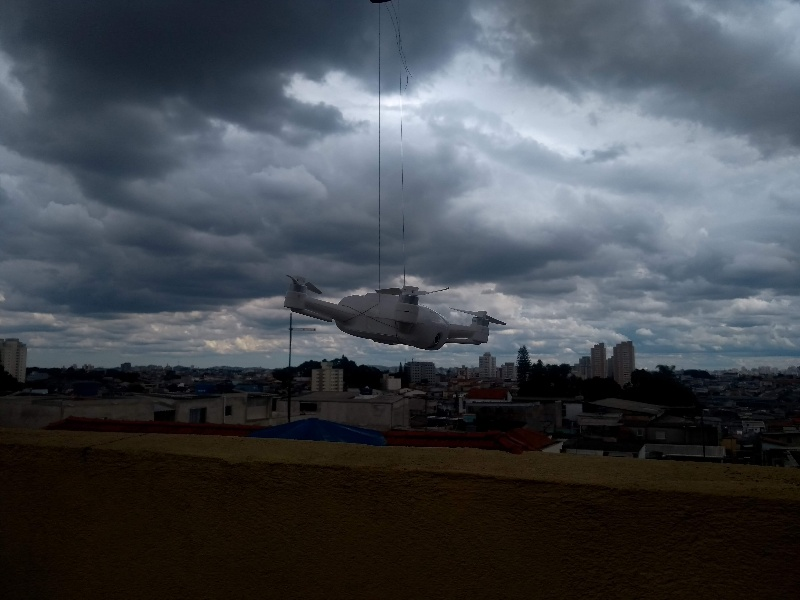drone: (277, 269, 515, 357)
